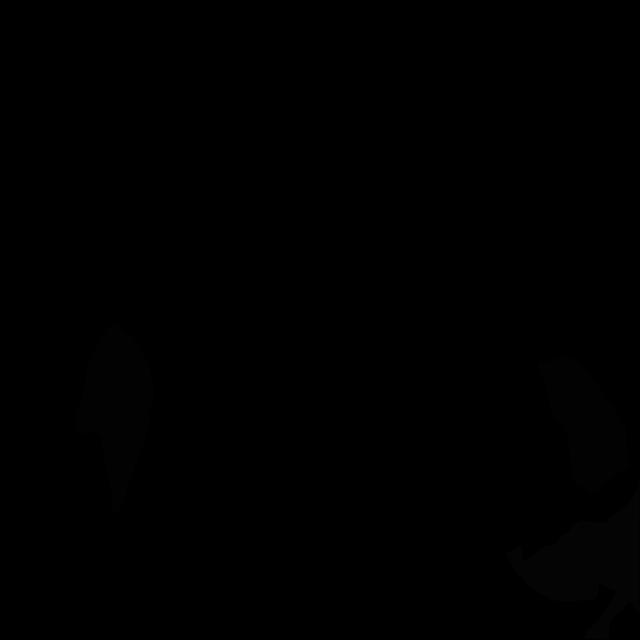cardboard: (75, 325, 154, 513), (537, 356, 628, 496)
soft_plastic: (505, 477, 640, 640)
